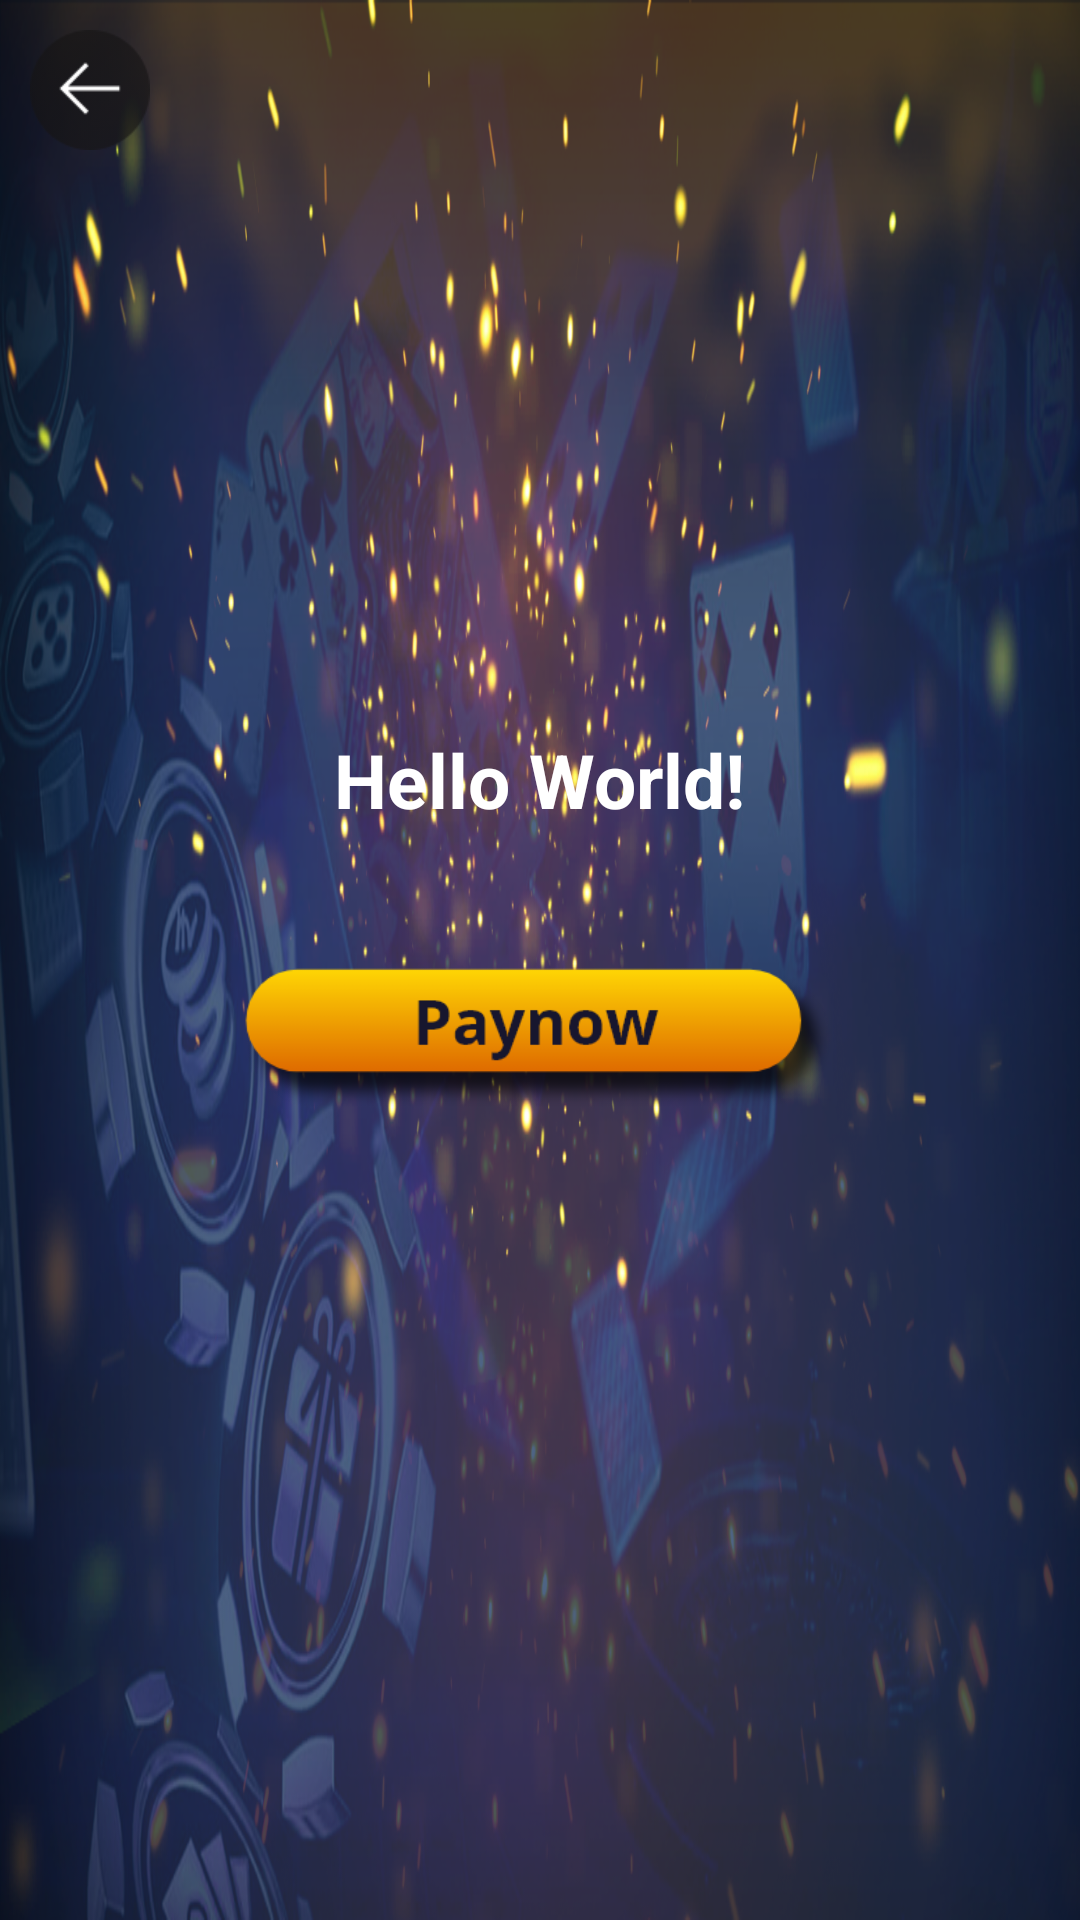

Icon click points for this 1080w x 1920h phone screenshot, format (x=x, y=y):
back: (x=104, y=90)
